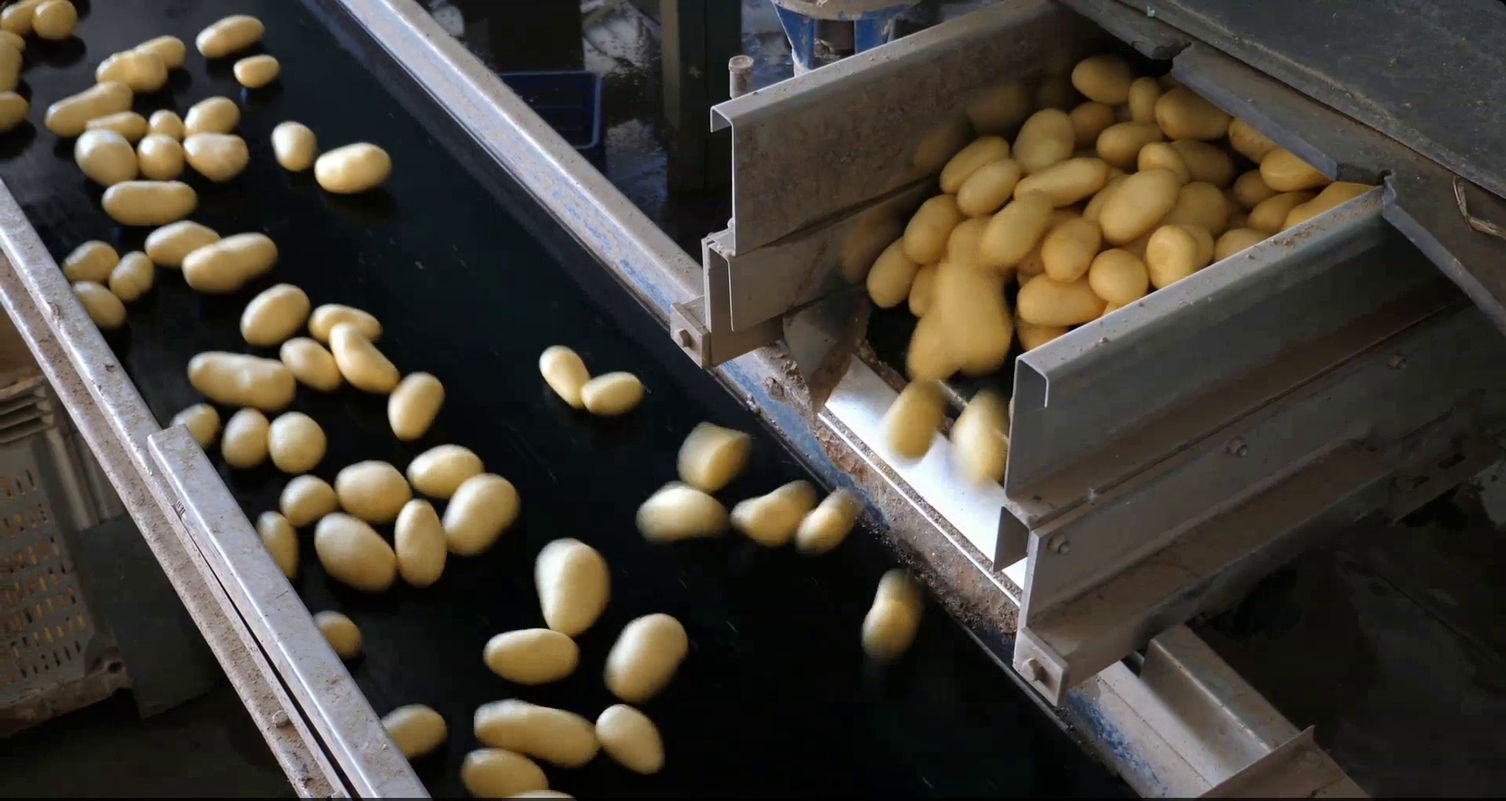potato: (929, 247, 1017, 379), (468, 695, 603, 769), (530, 533, 617, 642), (601, 608, 693, 704), (723, 470, 824, 556), (438, 469, 526, 564), (311, 506, 401, 595), (875, 369, 951, 473), (182, 346, 299, 412), (174, 227, 284, 295), (1275, 174, 1388, 240), (977, 184, 1059, 274), (630, 477, 733, 548), (1095, 162, 1184, 244), (948, 386, 1013, 498), (859, 563, 926, 669), (478, 623, 584, 690), (673, 418, 759, 498), (900, 292, 970, 388), (788, 483, 871, 560), (332, 455, 418, 529), (40, 77, 139, 141), (389, 492, 452, 592), (1010, 152, 1115, 212), (326, 316, 403, 397), (1013, 268, 1109, 330), (96, 175, 202, 231), (400, 438, 491, 503), (933, 130, 1017, 198), (456, 744, 555, 801), (594, 701, 666, 777), (310, 136, 395, 199), (900, 188, 965, 270), (1006, 103, 1079, 176), (236, 281, 312, 351), (863, 228, 924, 314), (1150, 83, 1235, 144), (70, 124, 145, 190), (384, 368, 449, 444), (376, 697, 453, 760), (536, 338, 598, 415), (139, 216, 227, 270), (1039, 214, 1105, 286), (951, 154, 1024, 219), (262, 408, 329, 477), (274, 467, 343, 530), (90, 44, 170, 98), (1257, 143, 1340, 195), (300, 299, 388, 348), (180, 128, 255, 185), (275, 333, 346, 393), (1143, 220, 1201, 292), (1086, 243, 1152, 306), (1166, 172, 1233, 234), (1067, 50, 1137, 108), (575, 369, 649, 422), (1091, 118, 1172, 166), (191, 11, 269, 60), (252, 506, 300, 585), (941, 211, 1004, 271), (219, 404, 272, 474), (1243, 187, 1319, 234), (1165, 132, 1239, 180), (1077, 169, 1138, 227), (311, 603, 368, 665), (66, 276, 129, 331), (1219, 111, 1283, 165), (902, 253, 951, 322), (163, 397, 223, 453), (57, 235, 124, 285), (1003, 307, 1074, 354), (177, 92, 245, 141), (133, 128, 191, 185), (267, 115, 320, 176), (106, 245, 158, 305), (1133, 139, 1197, 187), (1063, 97, 1118, 151), (1210, 223, 1278, 265), (80, 106, 153, 144), (128, 30, 192, 71), (30, 2, 82, 46), (1121, 75, 1166, 125), (229, 52, 282, 90), (1231, 165, 1273, 210), (2, 82, 35, 139), (1180, 218, 1216, 270), (142, 107, 187, 144), (1, 1, 45, 36), (1, 35, 23, 102), (1015, 238, 1047, 276), (500, 786, 578, 801), (1, 22, 30, 57), (1094, 295, 1122, 321), (1010, 266, 1033, 289)
